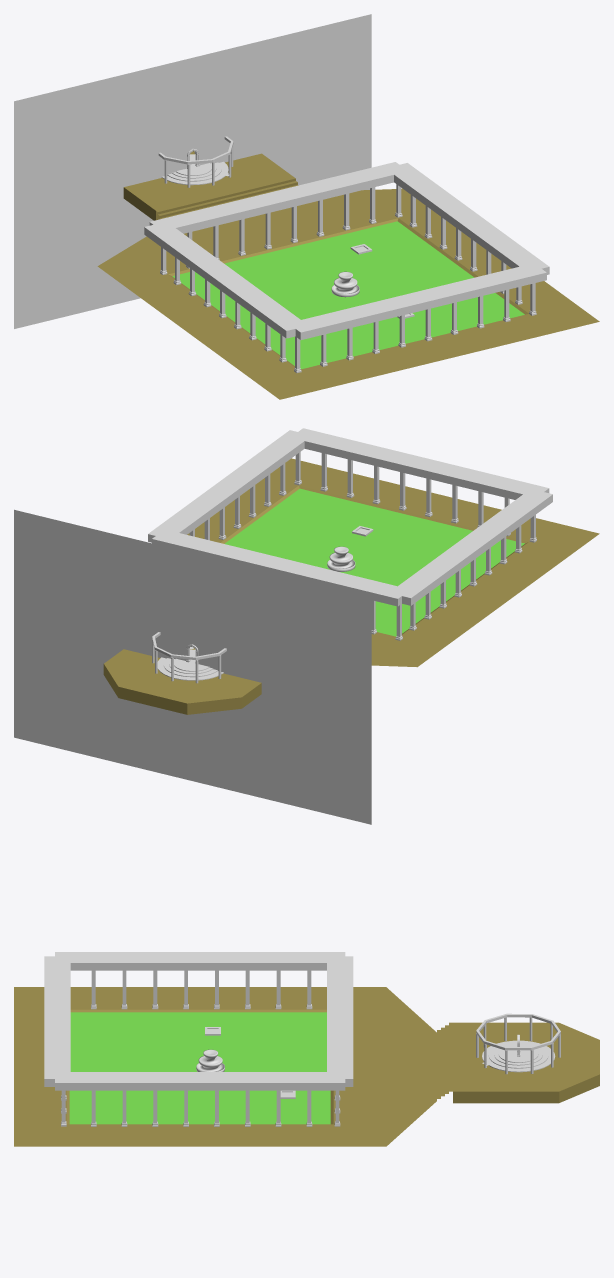
Rendered from Dream_level1.fbx.
3 renders of one model, top to bottom at view 1: azimuth 30°, elevation 25°; view 2: azimuth 150°, elevation 25°; view 3: azimuth 270°, elevation 25°, orthographic. The views are drawn at different scales.
Visible parts, largest first — view 1: Wall, Plane, Cube.010, Cube.011, Cube.009, Cube.008, Cube.005, Cube.004, Cube.006, Cube.007, Cylinder.004, Cylinder.005; view 2: Wall, Plane, Cube.010, Cube.011, Cube.009, Cube.008, Cube.005, Cube.006, Cube.007, Cylinder.004, Cylinder.005; view 3: Plane, Cube.008, Cube.009, Cube.011, Cube.010, Cube.006, Cylinder.004, Cube.007, Cylinder.003.
Part boxes in pixels (<box>): Wall: <box>14,14,371,328</box>; Plane: <box>97,151,599,399</box>; Cube.010: <box>295,263,546,339</box>; Cube.011: <box>149,162,407,233</box>; Cube.009: <box>144,221,308,338</box>; Cube.008: <box>394,163,549,274</box>; Cube.005: <box>294,283,536,373</box>; Cube.004: <box>160,184,402,274</box>; Cube.006: <box>173,257,286,362</box>; Cube.007: <box>409,195,522,304</box>; Cylinder.004: <box>158,136,233,187</box>; Cylinder.005: <box>331,271,359,297</box>; Wall: <box>14,509,371,824</box>; Plane: <box>103,458,599,714</box>; Cube.010: <box>291,428,549,499</box>; Cube.011: <box>152,529,408,606</box>; Cube.009: <box>389,489,552,605</box>; Cube.008: <box>148,430,311,542</box>; Cube.005: <box>294,452,536,542</box>; Cube.006: <box>409,525,522,630</box>; Cube.007: <box>189,463,286,540</box>; Cylinder.004: <box>152,632,226,683</box>; Cylinder.005: <box>327,546,355,571</box>; Plane: <box>14,987,599,1146</box>; Cube.008: <box>55,1072,345,1090</box>; Cube.009: <box>55,952,345,970</box>; Cube.011: <box>327,956,353,1086</box>; Cube.010: <box>44,956,70,1086</box>; Cube.006: <box>91,970,312,1009</box>; Cylinder.004: <box>476,1013,560,1074</box>; Cube.007: <box>91,1090,312,1126</box>; Cylinder.003: <box>482,1040,555,1072</box>.
Bounding box in the file's own units: 31359 × 19099 × 43597.
